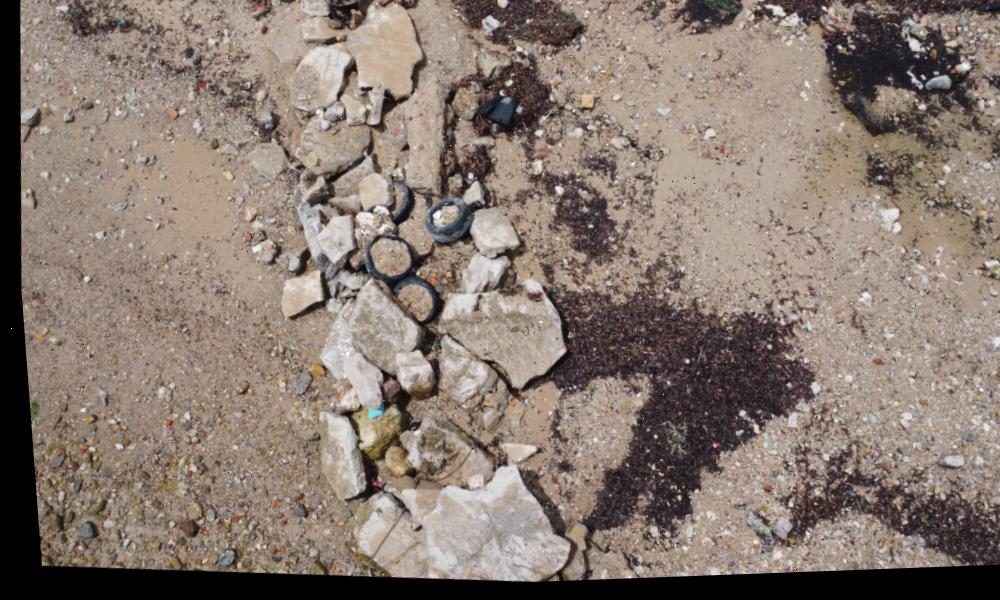tire: (357, 234, 412, 295), (382, 279, 441, 327), (420, 201, 472, 246), (390, 172, 413, 230), (272, 0, 312, 2)
